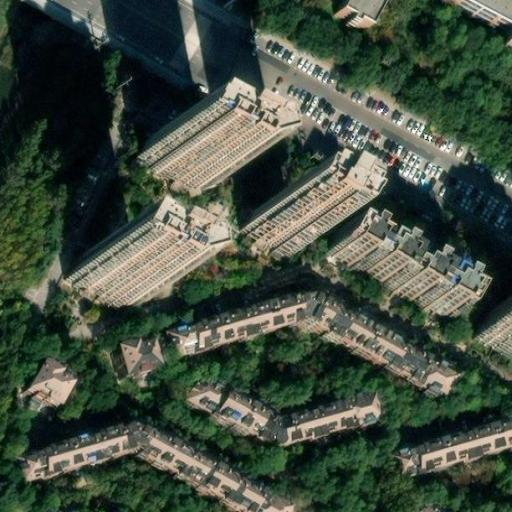building: (169, 288, 462, 397), (21, 420, 297, 512), (189, 374, 380, 442), (327, 234, 460, 323), (138, 139, 221, 190), (64, 258, 143, 308), (240, 211, 298, 255), (29, 359, 79, 409), (476, 312, 512, 358), (124, 334, 165, 374)
